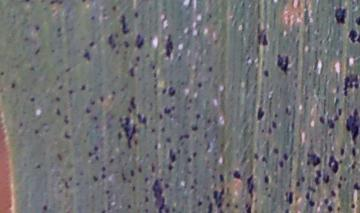tarspot: (117, 114, 139, 150), (151, 177, 169, 213), (344, 108, 360, 145), (340, 74, 360, 97), (254, 21, 269, 47), (163, 32, 175, 61), (275, 52, 290, 74), (118, 12, 131, 36), (333, 6, 347, 26), (346, 28, 360, 47), (305, 151, 321, 167), (190, 112, 202, 133), (245, 173, 255, 198), (133, 32, 146, 51), (327, 154, 340, 173), (105, 31, 117, 51), (213, 188, 224, 208), (136, 112, 148, 129), (313, 168, 323, 187), (255, 104, 265, 122), (167, 146, 178, 162), (82, 48, 91, 64), (177, 132, 191, 142), (129, 95, 138, 110), (61, 113, 71, 126), (326, 117, 335, 131), (54, 25, 63, 39), (231, 169, 241, 181), (286, 192, 294, 206), (284, 104, 292, 118), (32, 46, 43, 56), (349, 1, 360, 11), (127, 65, 136, 77), (167, 85, 175, 98), (48, 1, 65, 7), (87, 39, 97, 49), (321, 174, 330, 185), (62, 130, 73, 139), (119, 171, 128, 182), (332, 96, 341, 107), (244, 201, 252, 213), (206, 201, 214, 213), (149, 162, 157, 174), (87, 13, 97, 22), (162, 105, 171, 115), (262, 174, 270, 185), (217, 172, 225, 183), (352, 181, 360, 192), (272, 146, 280, 157), (318, 114, 326, 125), (270, 119, 278, 130), (338, 146, 346, 157), (62, 180, 70, 191), (205, 12, 213, 23), (350, 158, 357, 170), (205, 140, 212, 152), (307, 199, 316, 208), (260, 155, 268, 165), (277, 159, 285, 169), (33, 162, 43, 170), (329, 188, 337, 198), (121, 40, 131, 48), (63, 65, 73, 73), (142, 193, 150, 203), (354, 14, 360, 27), (117, 130, 123, 143), (350, 146, 357, 157), (304, 189, 311, 200), (281, 151, 289, 160), (185, 1, 194, 9), (163, 181, 171, 190), (125, 202, 134, 210), (41, 203, 49, 212), (79, 83, 87, 92), (83, 106, 92, 114), (55, 152, 63, 161), (337, 106, 343, 118), (158, 125, 166, 134), (175, 55, 184, 63), (166, 162, 173, 172), (27, 96, 37, 103), (90, 144, 100, 151), (110, 3, 117, 13), (266, 126, 273, 136), (134, 54, 141, 64), (55, 106, 61, 117), (335, 84, 341, 95), (195, 80, 203, 88), (91, 174, 99, 182), (103, 187, 111, 195), (87, 150, 95, 158), (33, 24, 41, 32), (164, 136, 172, 144), (99, 164, 107, 172), (91, 114, 99, 122), (204, 117, 212, 125), (48, 47, 56, 55), (178, 79, 186, 87), (317, 38, 325, 46), (263, 69, 270, 78), (33, 127, 40, 136), (54, 94, 61, 103), (87, 98, 94, 107), (132, 10, 139, 19), (27, 65, 36, 72), (190, 150, 197, 159), (18, 120, 25, 129), (151, 90, 160, 97), (157, 112, 164, 121), (253, 151, 259, 161), (129, 168, 135, 178), (98, 94, 104, 104), (161, 86, 167, 96), (149, 125, 155, 135), (143, 174, 149, 184), (290, 73, 300, 79), (293, 78, 298, 90), (326, 205, 333, 213), (185, 156, 192, 164), (9, 81, 16, 89), (67, 88, 75, 95), (99, 172, 107, 179), (108, 156, 115, 164), (57, 83, 64, 91), (74, 180, 81, 188), (109, 89, 117, 96), (152, 82, 159, 90), (143, 52, 151, 59), (131, 183, 136, 194), (322, 197, 328, 206), (300, 174, 306, 183), (153, 142, 159, 151), (337, 173, 343, 182), (205, 194, 211, 203), (212, 37, 218, 46), (170, 103, 176, 112), (233, 203, 240, 210), (303, 94, 310, 101), (151, 71, 158, 78), (202, 132, 209, 139), (349, 202, 355, 210), (282, 207, 290, 213), (342, 175, 348, 183), (136, 165, 142, 173), (78, 169, 84, 177), (150, 62, 156, 70), (335, 205, 341, 213), (207, 64, 212, 73), (337, 181, 342, 190), (196, 200, 203, 206), (294, 180, 300, 187), (273, 113, 280, 119), (143, 207, 150, 213), (263, 185, 269, 192), (225, 200, 230, 208), (189, 183, 194, 191), (22, 36, 30, 41), (184, 105, 192, 110), (100, 207, 106, 213), (54, 74, 60, 80), (187, 97, 193, 103), (210, 173, 216, 179), (1, 70, 6, 77), (152, 78, 159, 83), (260, 127, 265, 133), (266, 193, 272, 198), (79, 1, 87, 4), (39, 1, 46, 4), (23, 1, 29, 4)
